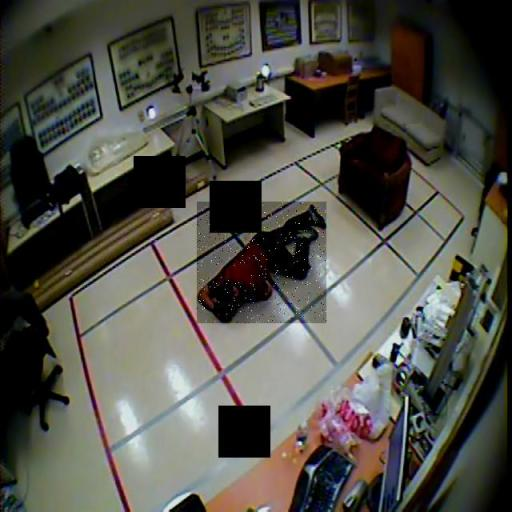Fall: (197, 202, 326, 323)
